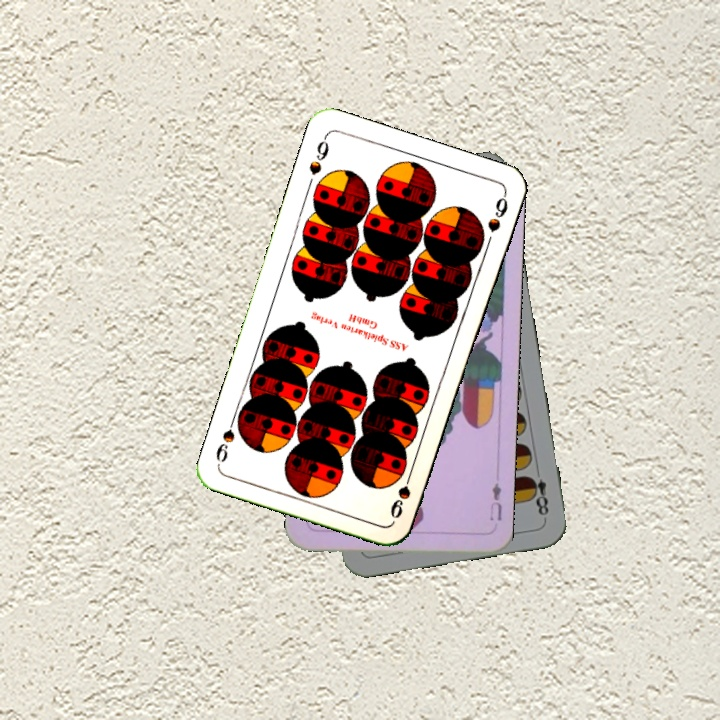E8: (524, 462, 551, 522)
EU: (486, 479, 504, 524)
S9: (386, 465, 416, 521), (305, 132, 332, 178)
